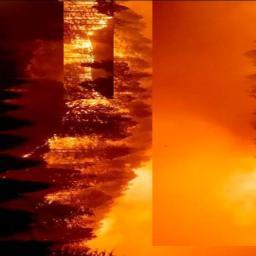Heavy smoke: (3, 2, 256, 256)
Large fire: (21, 0, 192, 248)
